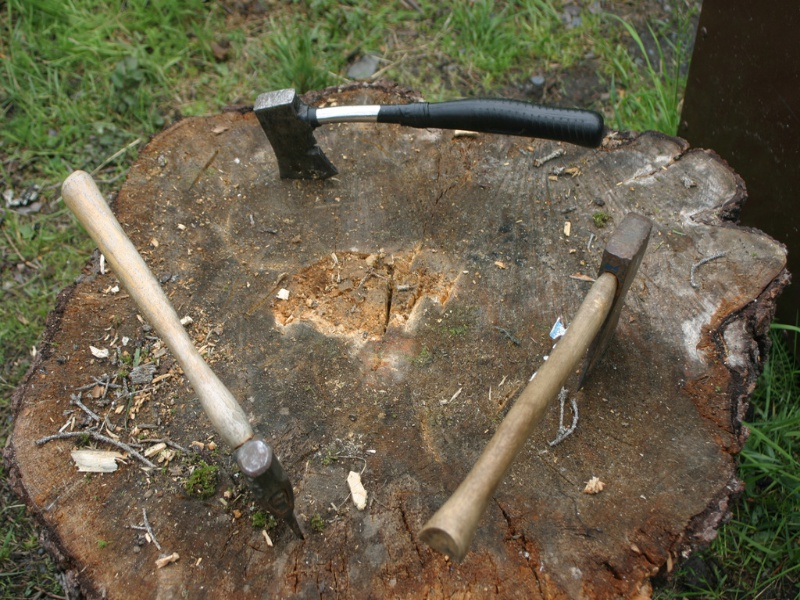axe: (189, 353, 314, 547), (544, 204, 659, 411), (228, 78, 412, 186)
